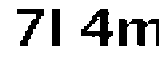4: (76, 5, 116, 52)
7: (12, 5, 48, 50)
I: (50, 6, 72, 53)
m: (115, 12, 160, 50)
